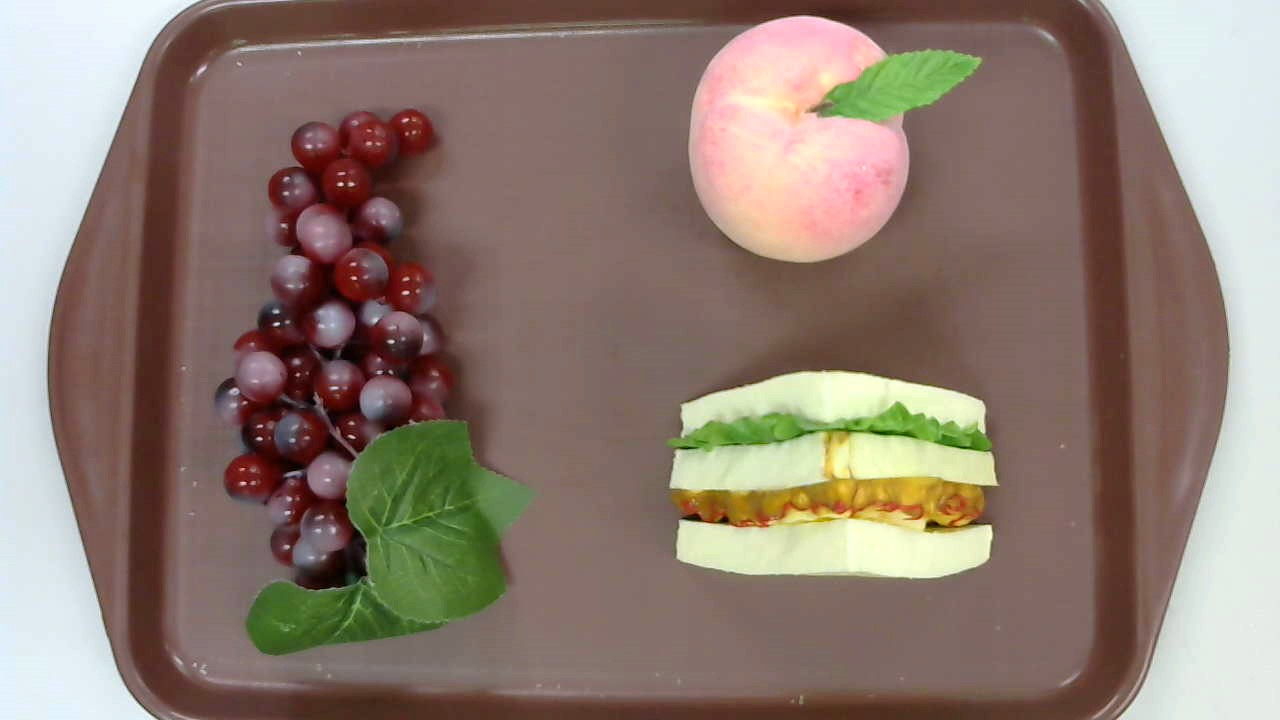grape: (214, 102, 540, 654)
peach: (687, 14, 981, 264)
sandwich: (666, 370, 999, 579)
